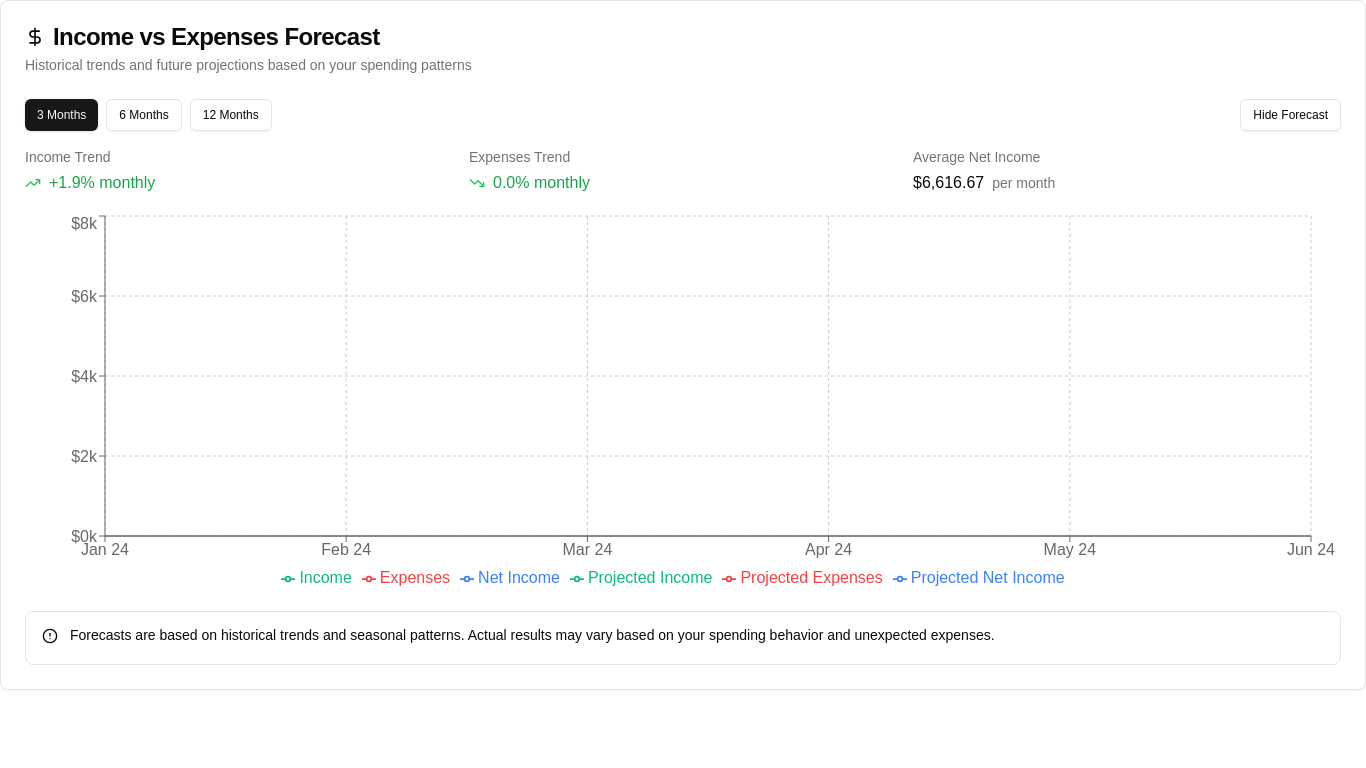
it: IncomeExpensesForecast › toggles forecast visibility
Click the button "Hide Forecast" at (1291, 115), box [1240, 99, 1341, 131]
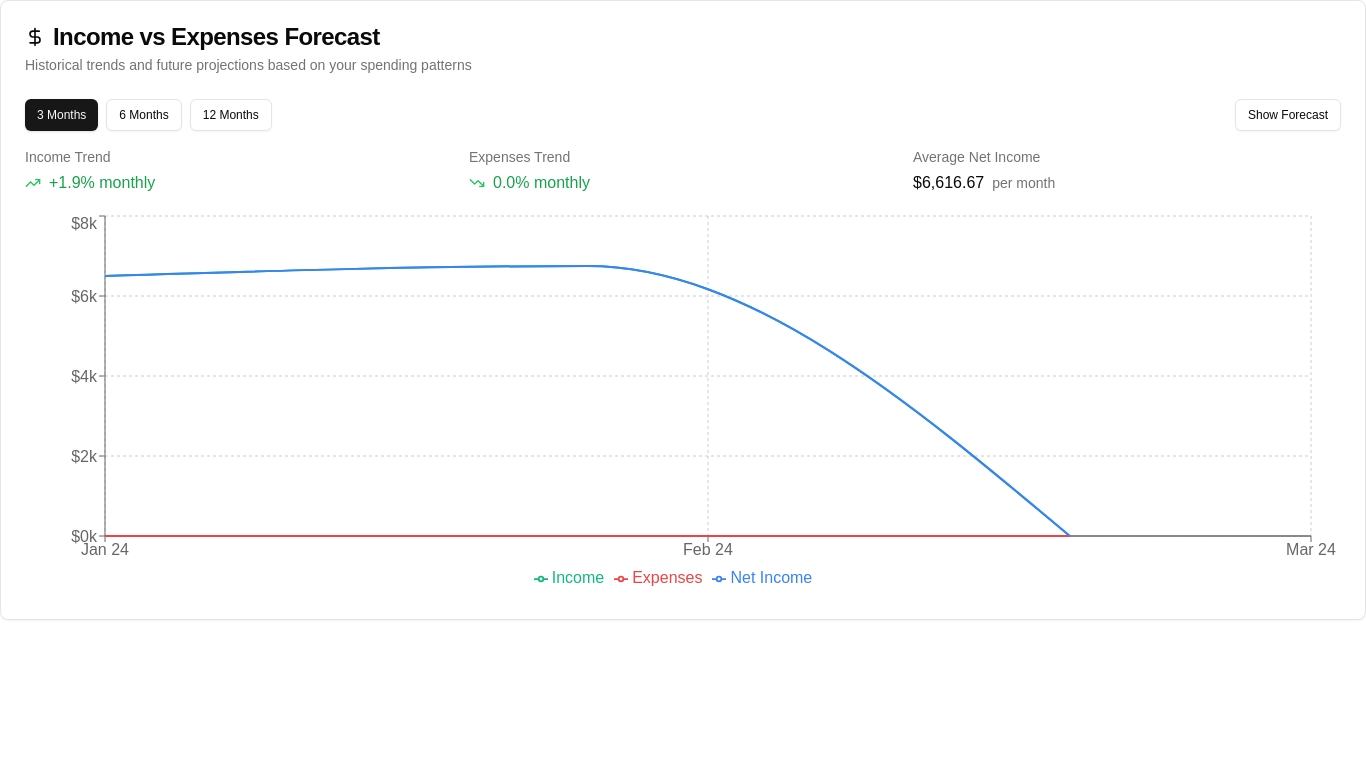
Expected: the button "Show Forecast" is shown
Click the button "Show Forecast" at (1288, 115), box [1235, 99, 1341, 131]
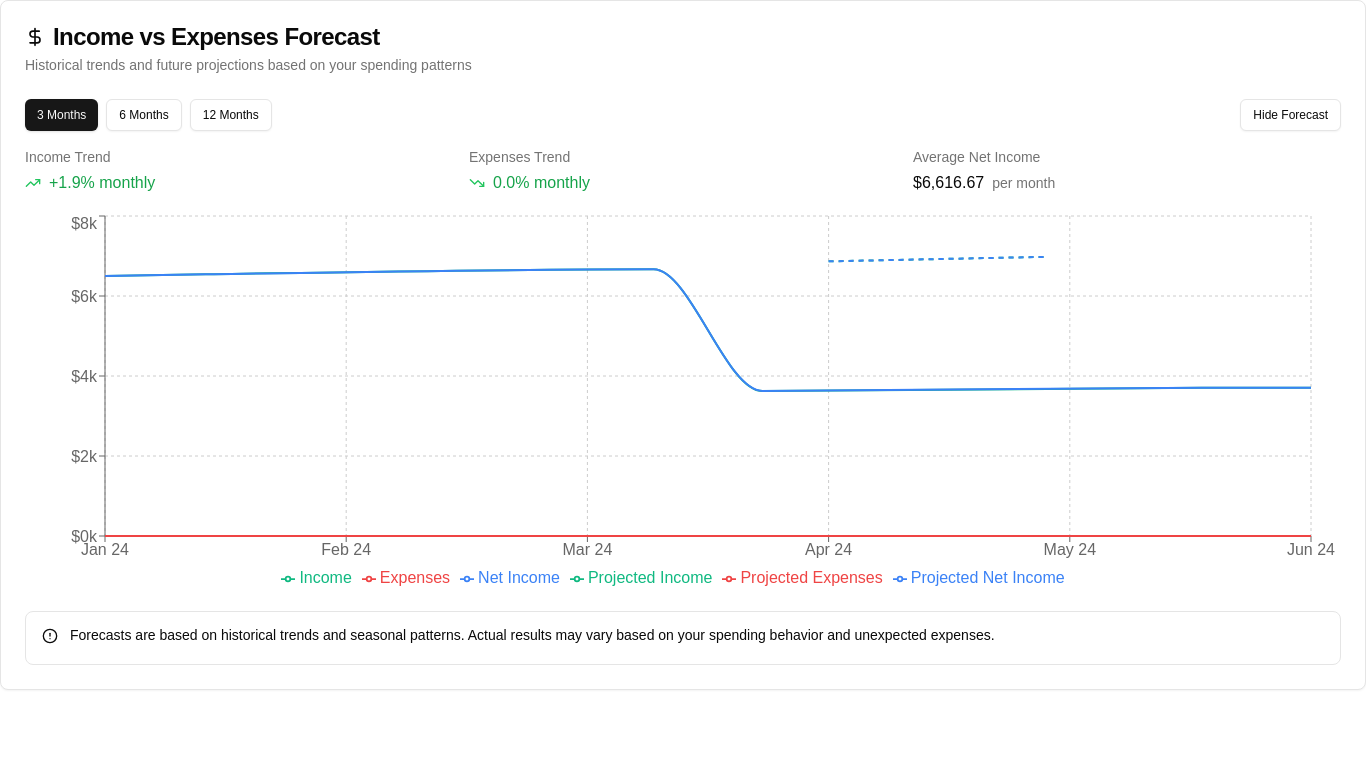
Expected: the button "Hide Forecast" is shown, [1240, 99, 1341, 131]
